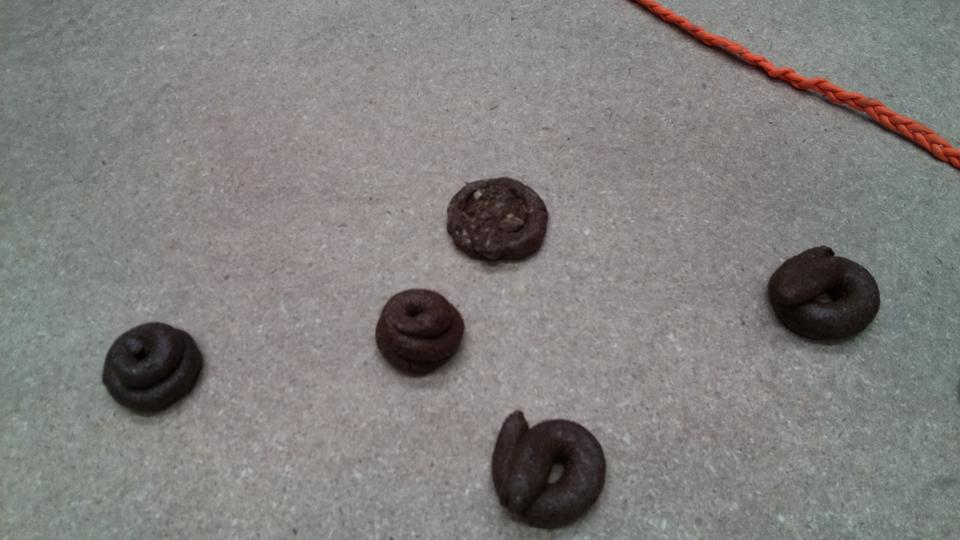poop: (486, 405, 611, 533), (764, 243, 886, 350), (98, 316, 207, 421), (442, 173, 553, 271), (372, 284, 469, 383)
rope: (632, 1, 960, 172)
